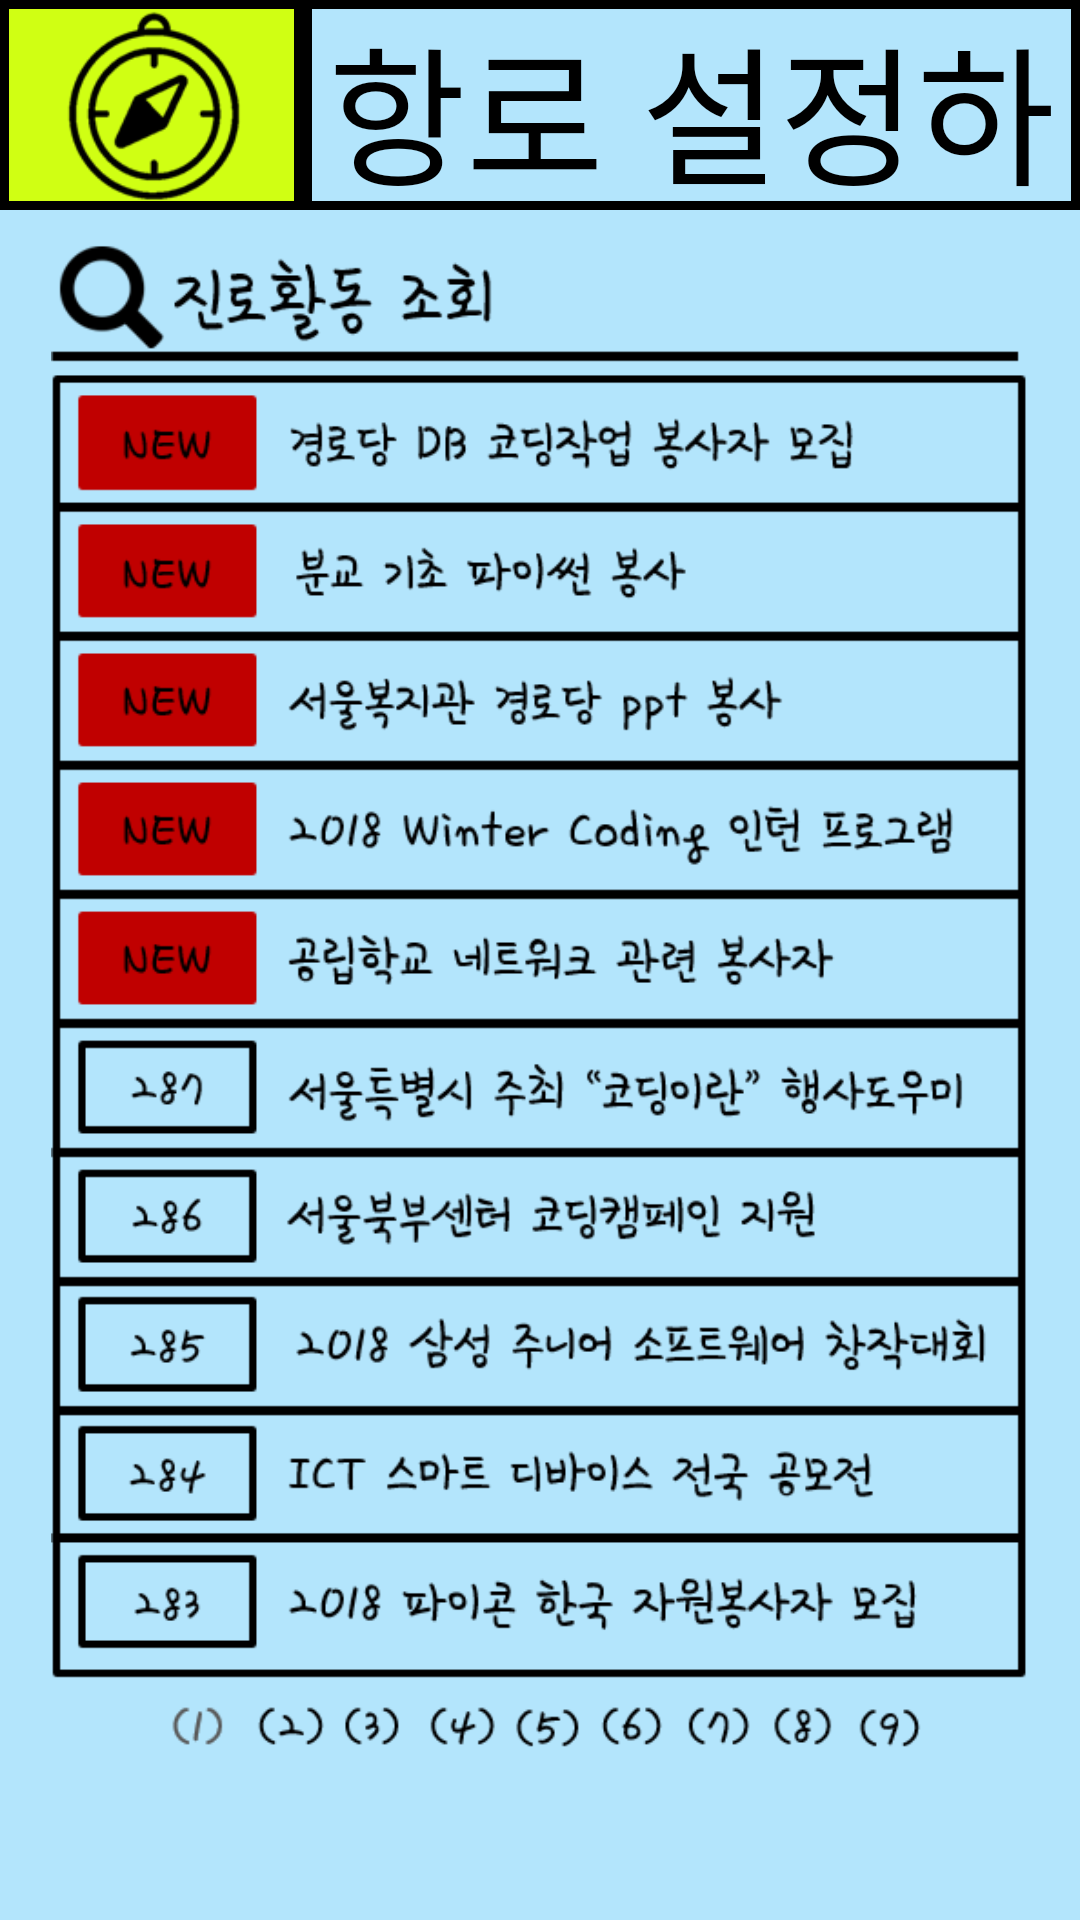

Locate icon controls on the screen. Image size 1080x1920, boxes as (x1, y1, x2, y2).
compassimage: (9, 9, 294, 201)
